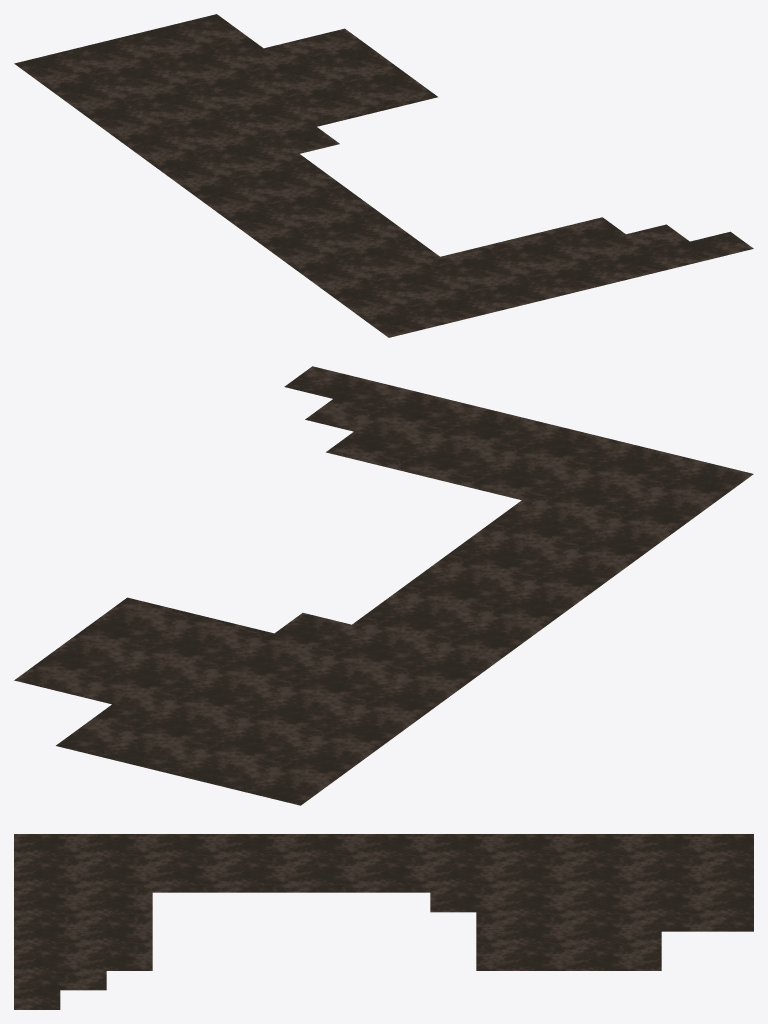
The model's file is floor_0_-14.glb.
3 renders of one model, top to bottom at view 1: azimuth 30°, elevation 25°; view 2: azimuth 150°, elevation 25°; view 3: azimuth 270°, elevation 25°, orthographic. The views are drawn at different scales.
Parts seen in each view (by area): view 1: floor_0_-14; view 2: floor_0_-14; view 3: floor_0_-14.
Part boxes in pixels (left/top/right/bottom): floor_0_-14: left=14, top=14, right=753, bottom=337; floor_0_-14: left=14, top=366, right=753, bottom=805; floor_0_-14: left=14, top=834, right=753, bottom=1009.
Size of the model in its own units: 36 by 0 by 64.
1 material, 1 textured.
